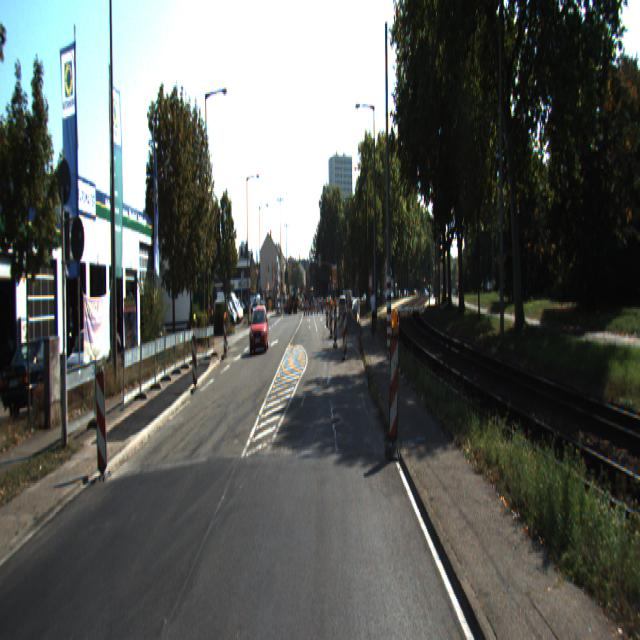Car: (248, 305, 270, 355)
